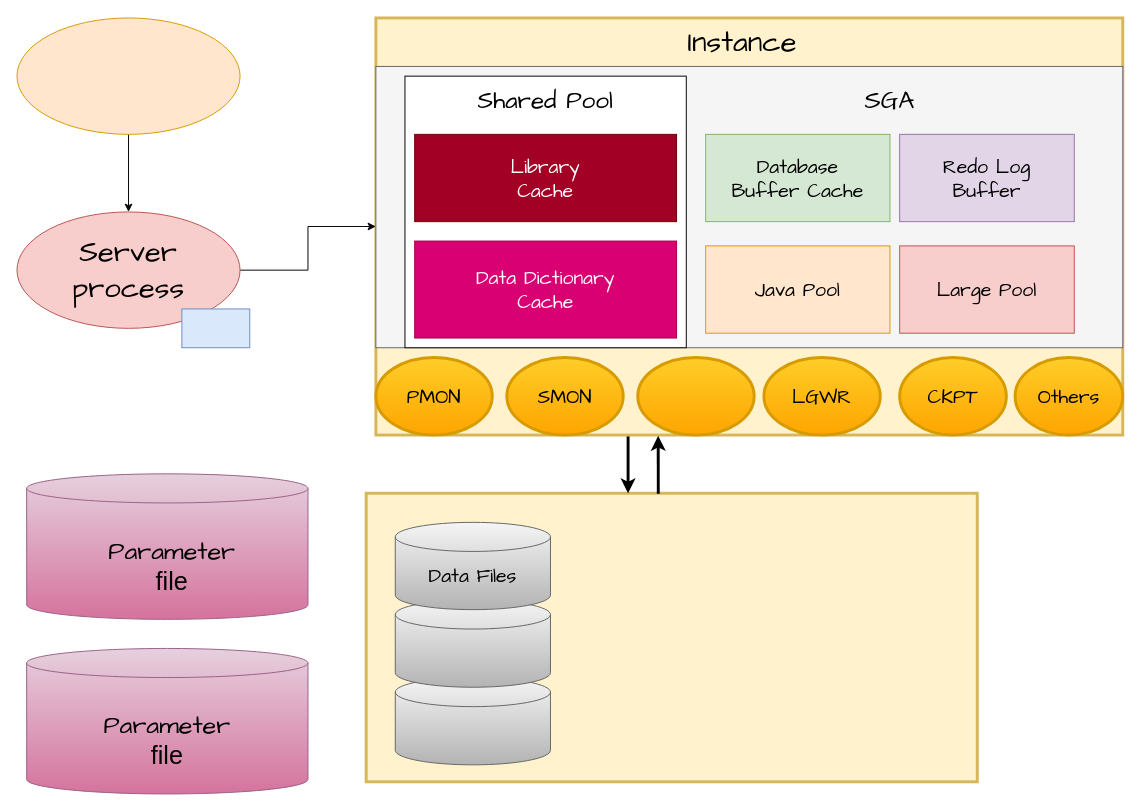
Some shapes in this 1141 by 811 pixel diagram are drawn without their labels. The shapes that lost their labels are listed below. From the top down, each one's centre as x and y in pixels, then its label:
point (128, 75): User process
point (215, 328): PGA
point (695, 396): DBWR
